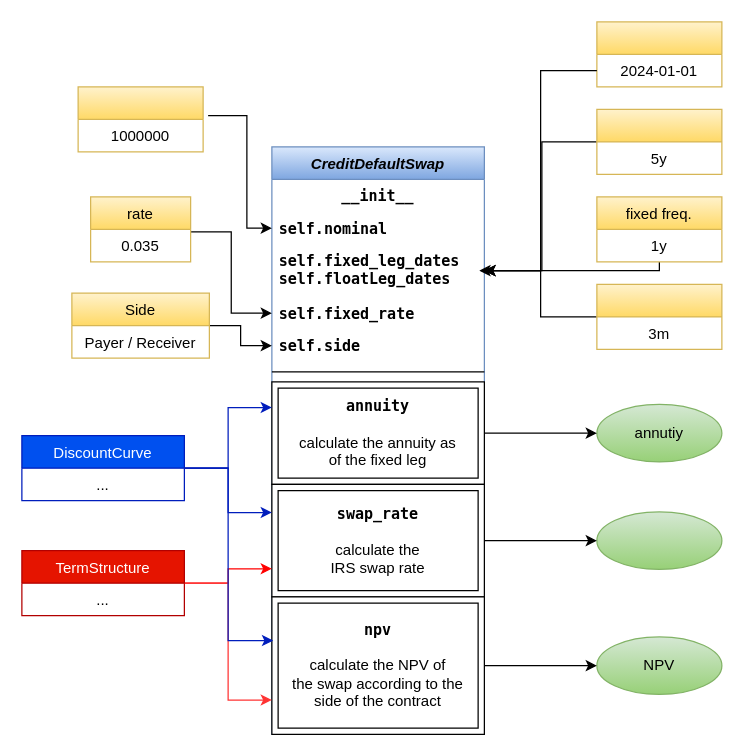
Some shapes in this 744 by 756 pixel diagram are drawn without their labels. Here are the shapes that lost their labels. From the top down, the box of each, then its label:
(596, 21, 722, 87): start_date
(77, 86, 203, 152): nominal
(596, 108, 722, 174): maturity
(596, 283, 722, 349): float freq.
(596, 511, 722, 569): swap rate
